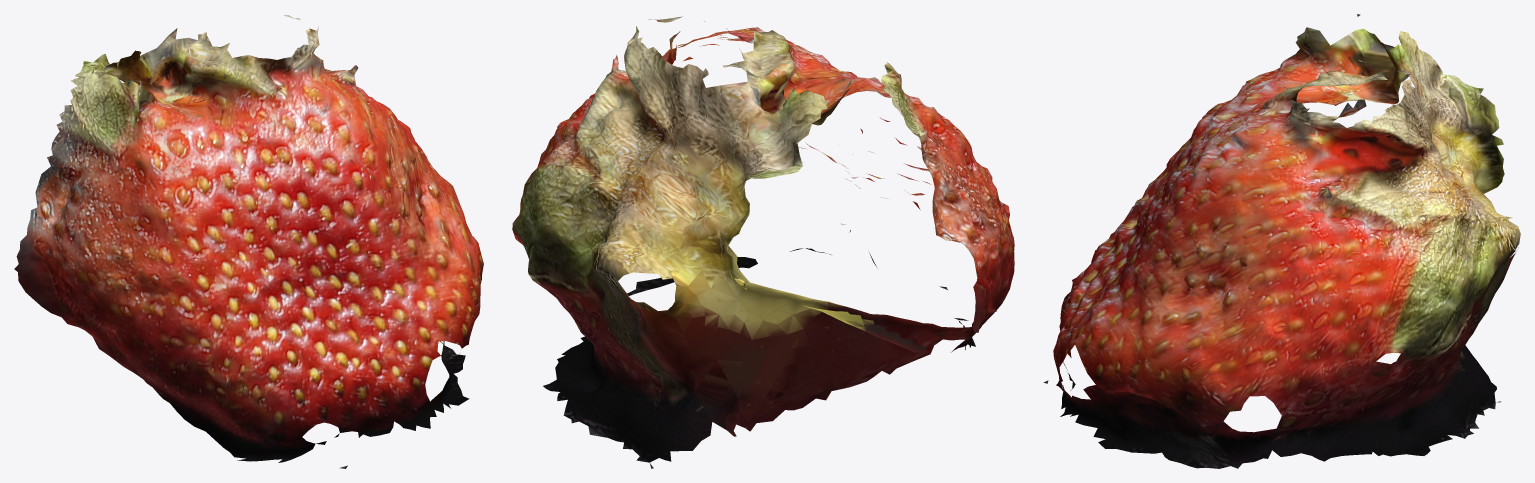
The model's file is straw.glb.
3 renders of one model, left to right at view 1: azimuth 30°, elevation 25°; view 2: azimuth 150°, elevation 25°; view 3: azimuth 270°, elevation 25°, orthographic. The views are drawn at different scales.
Bounding box in the file's own units: 997 × 751 × 996.
1 material, 1 textured.
